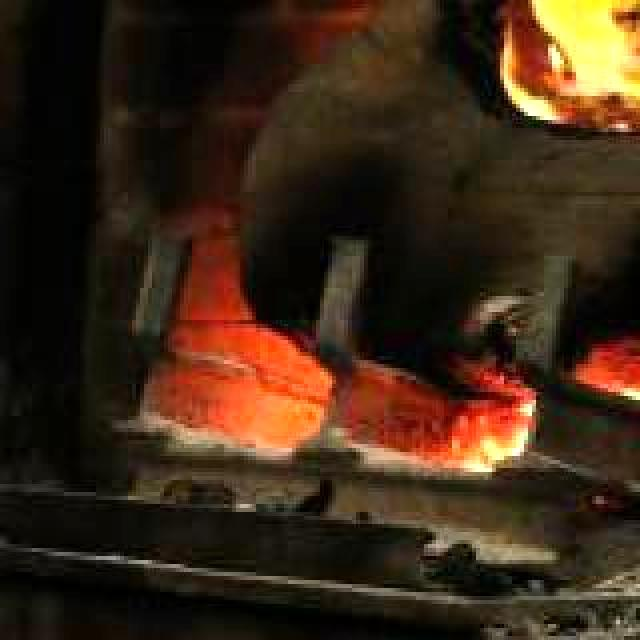fire: (444, 0, 640, 148)
